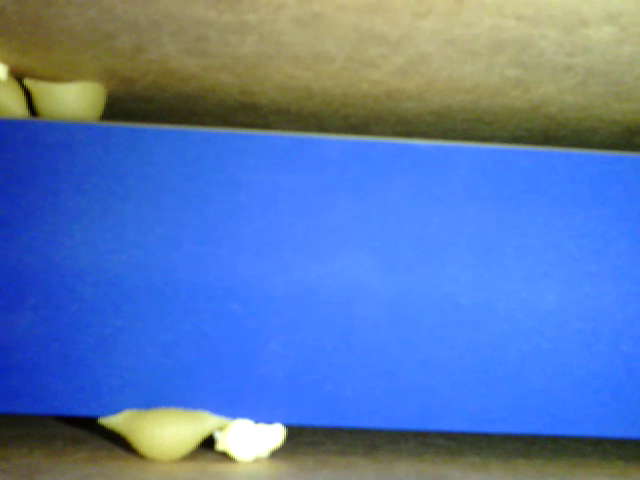shell: (99, 407, 233, 463), (23, 78, 107, 120)
